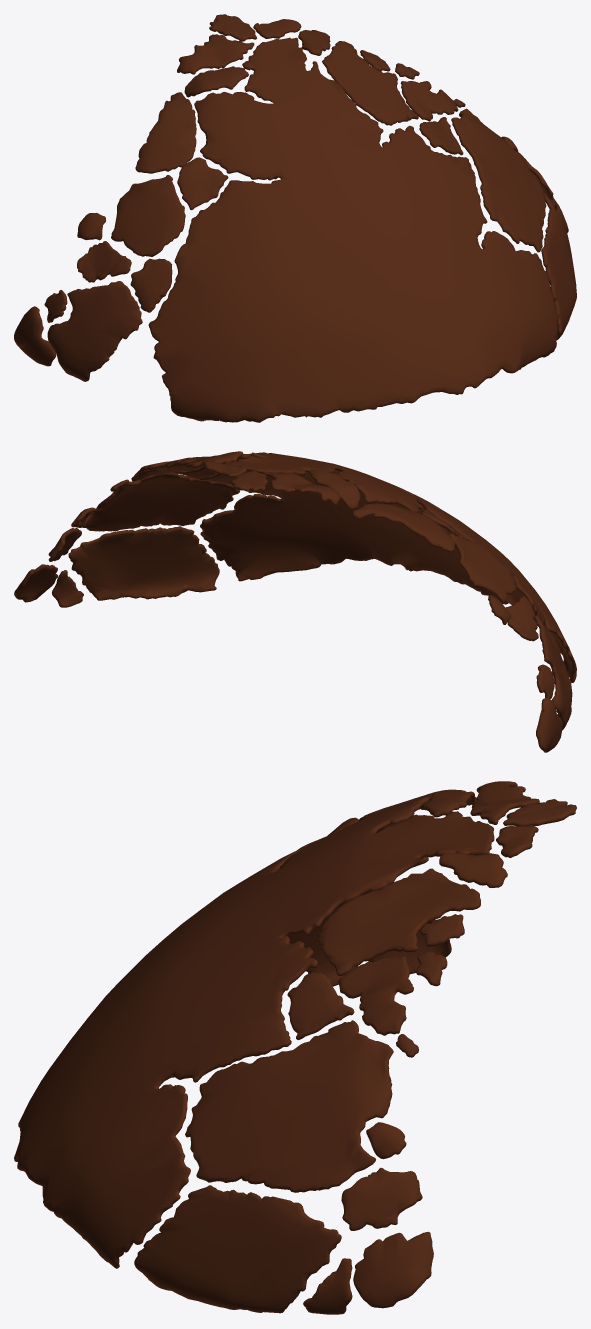
Rendered from vox_excavation_mountaingrass01.fbx.
The picture shows the model from 3 angles, top to bottom: view 1: azimuth 30°, elevation 25°; view 2: azimuth 150°, elevation 25°; view 3: azimuth 270°, elevation 25°; orthographic projection. The views are drawn at different scales.
Visible parts, largest first — view 1: vox_excavation_mountaingrass01; view 2: vox_excavation_mountaingrass01; view 3: vox_excavation_mountaingrass01.
Boxes of the visible parts, bbox=[...] form: vox_excavation_mountaingrass01: bbox=[14, 14, 576, 422]; vox_excavation_mountaingrass01: bbox=[14, 451, 576, 752]; vox_excavation_mountaingrass01: bbox=[14, 781, 576, 1314].
Size of the model in its own units: 25.45 by 11.91 by 17.01.
